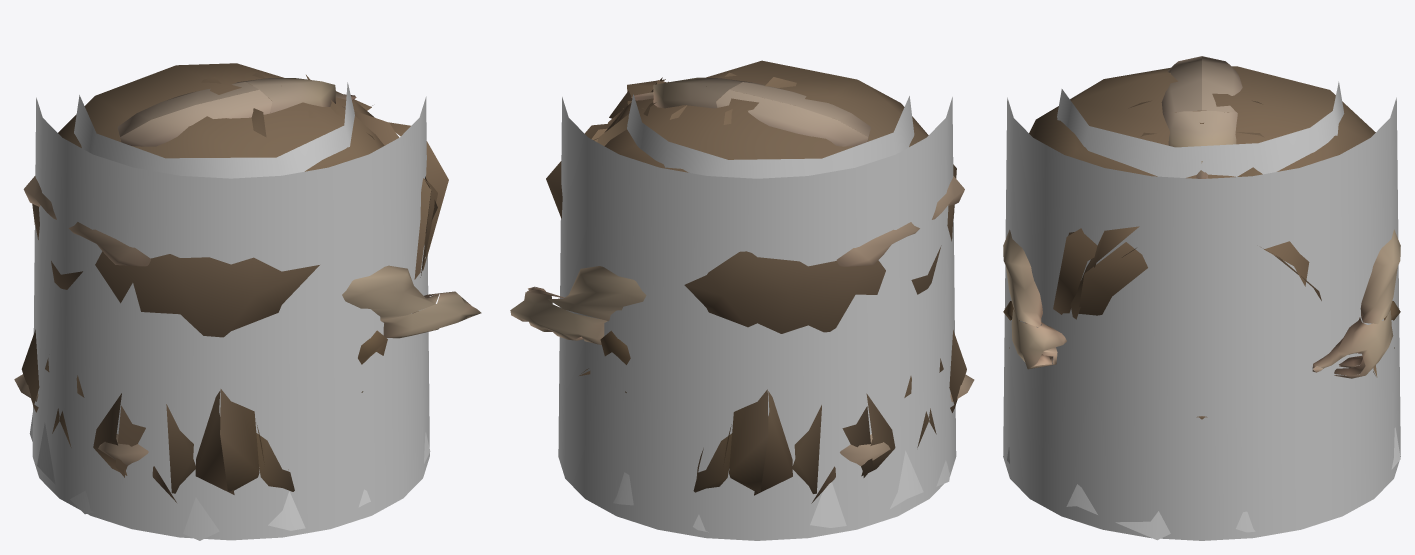
3 renders of one model, left to right at view 1: azimuth 30°, elevation 25°; view 2: azimuth 150°, elevation 25°; view 3: azimuth 270°, elevation 25°, orthographic.
Visible parts, largest first — view 1: team, tex:hair1, tex:skinHide, tex:hair2, fur; view 2: team, tex:hair1, tex:skinHide, tex:hair2, fur; view 3: team, tex:hair1, tex:skinHide, fur, tex:hair2.
Boxes of the visible parts, <box> form: team: <box>32,96,429,540</box>; tex:hair1: <box>32,63,387,392</box>; tex:skinHide: <box>14,78,481,465</box>; tex:hair2: <box>21,72,448,502</box>; fur: <box>29,82,430,540</box>; team: <box>558,97,956,540</box>; tex:hair1: <box>600,60,956,392</box>; tex:skinHide: <box>510,77,974,465</box>; tex:hair2: <box>546,72,966,503</box>; fur: <box>613,94,949,532</box>; team: <box>1003,97,1400,540</box>; tex:hair1: <box>1003,66,1400,419</box>; tex:skinHide: <box>1003,56,1400,378</box>; fur: <box>1007,81,1400,540</box>; tex:hair2: <box>1053,100,1377,377</box>.
Bounding box in the file's own units: 65535 × 65535 × 65535.
